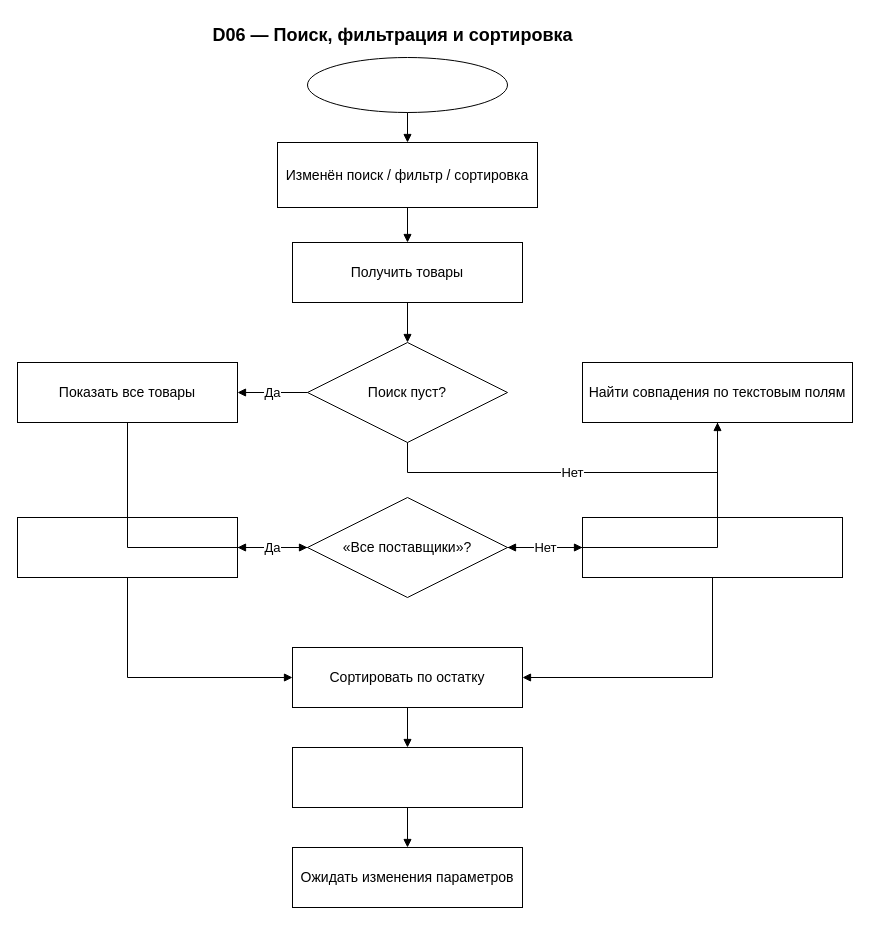
Some shapes in this 870 by 925 pixel diagram are drawn without their labels. The box of each missing label's shape, as (x1, y1, x2, y2) in pixels:
Без фильтра поставщика: (16, 516, 238, 578)
Начало: каталог открыт: (306, 56, 508, 112)
Обновить список: (292, 746, 522, 808)
Применить фильтр поставщика: (582, 516, 842, 578)
